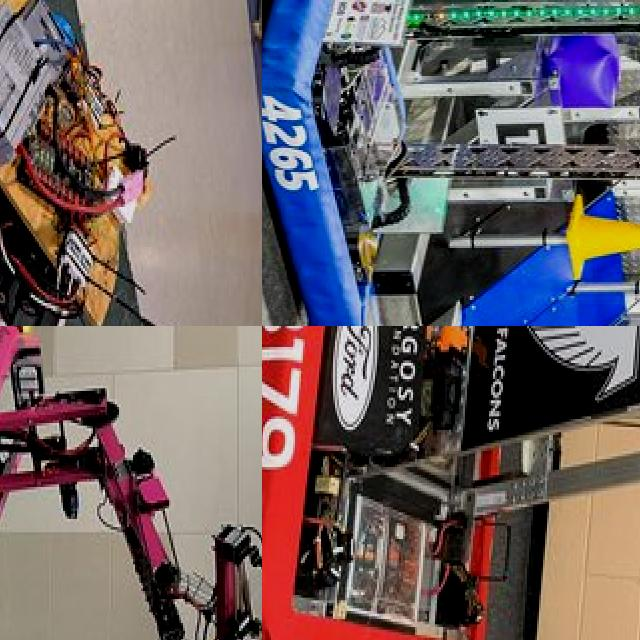FRC-Robots: (262, 0, 640, 326), (262, 326, 640, 640), (0, 326, 262, 640), (0, 0, 214, 326)
